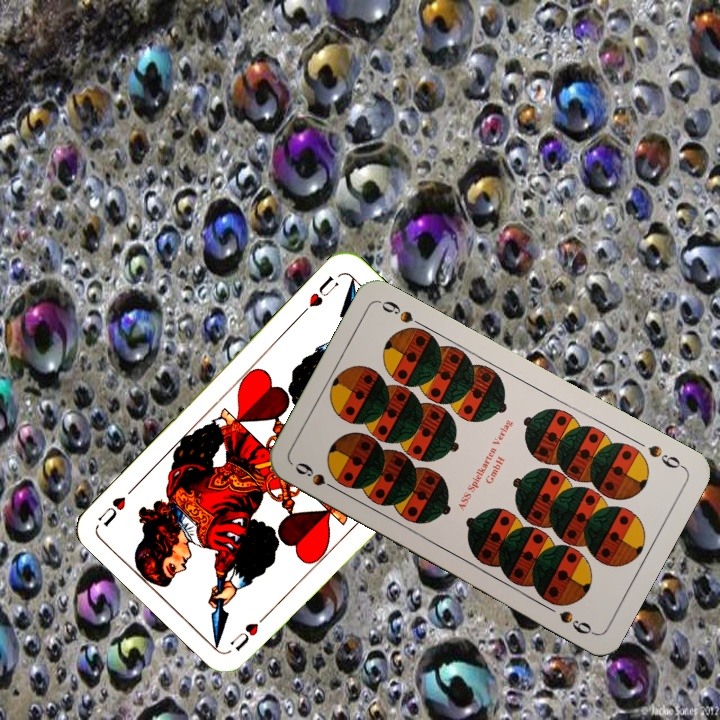HU: (226, 607, 273, 655), (297, 271, 341, 318)
S9: (291, 458, 344, 495), (643, 440, 687, 472)
